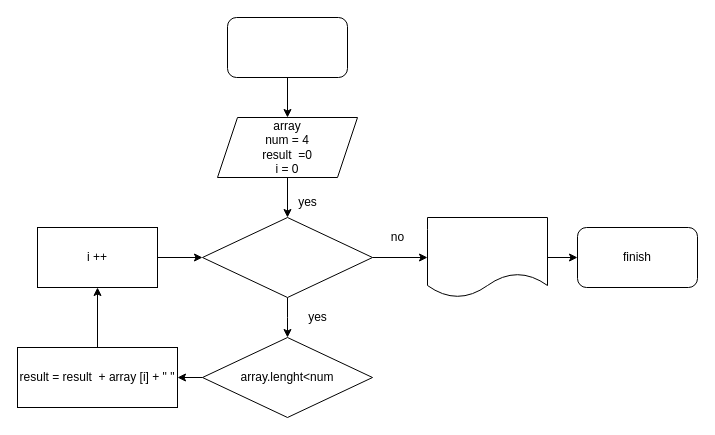
This 715x435 diagram has some shape labels left out. Here are the shapes that lost their labels. From the top down, the centre of each, then its label:
At point (287, 47): "Start".
At point (287, 257): "i<array.lenght".
At point (487, 257): "array[]".
